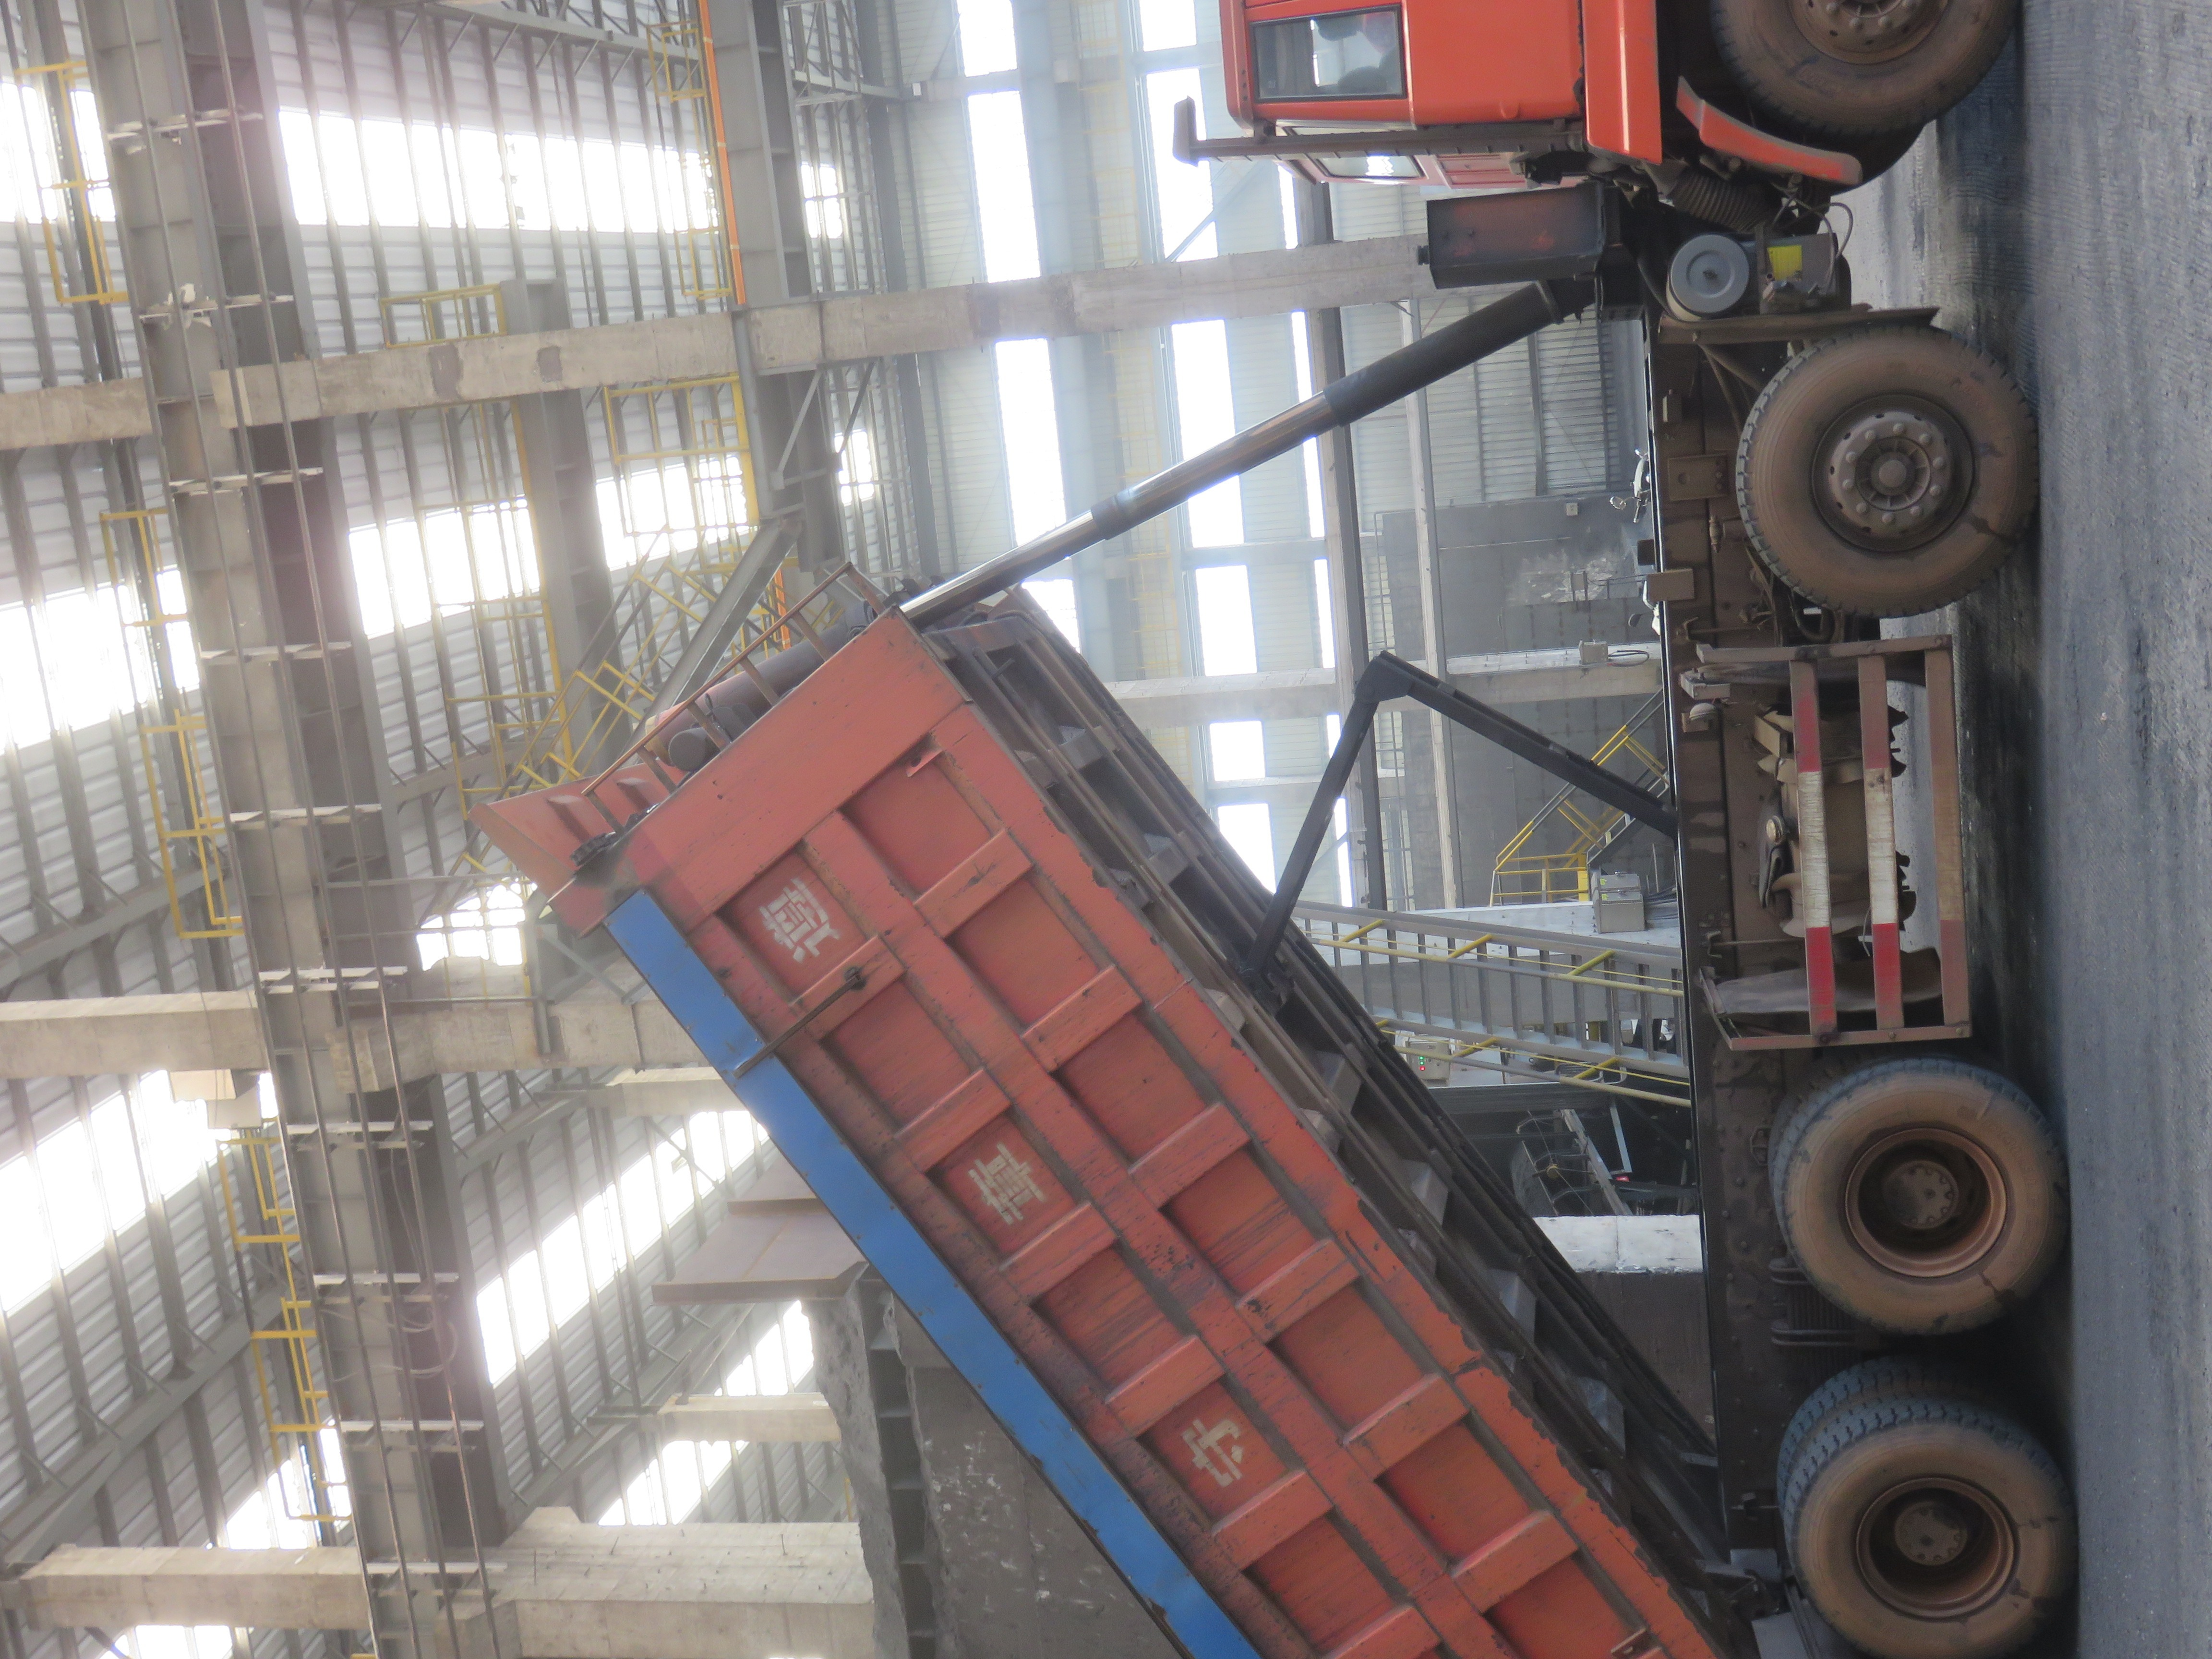truck: (481, 3, 2060, 1659)
